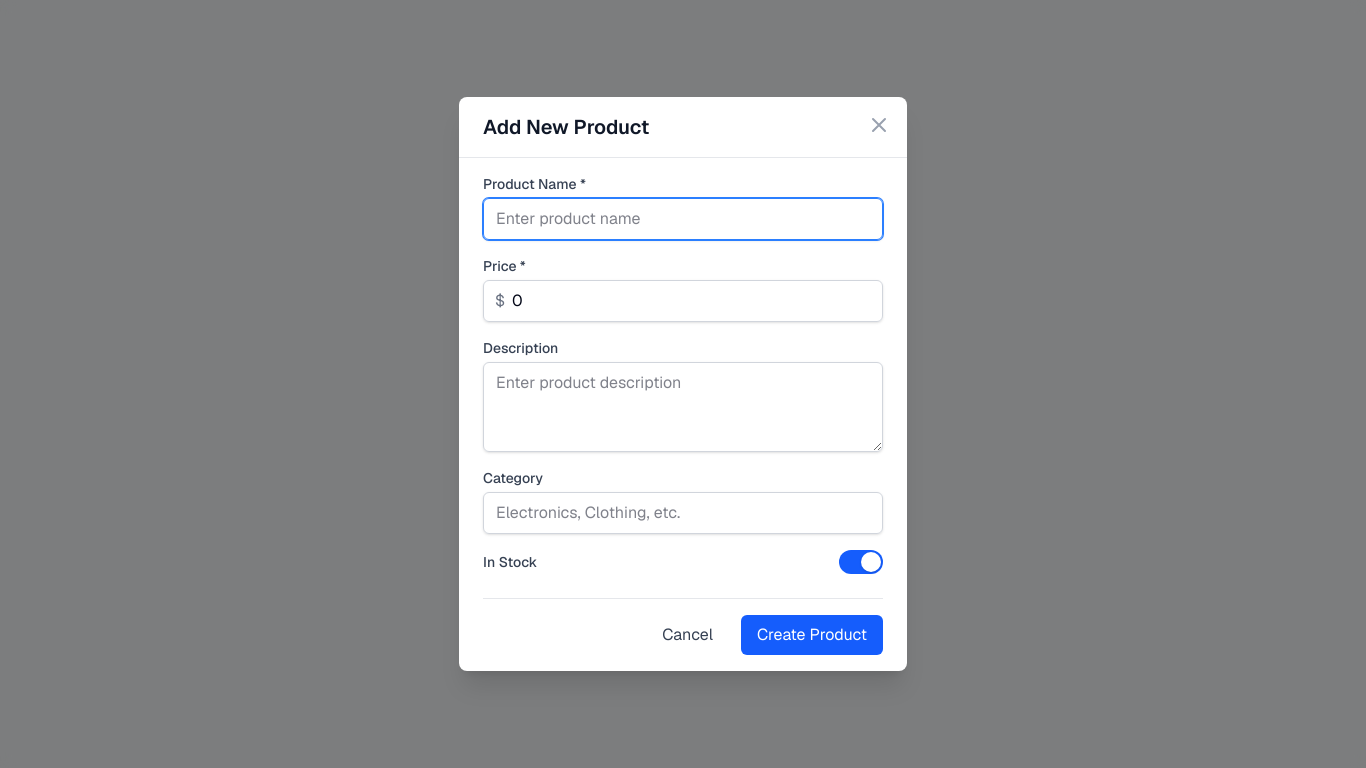
Test case: ProductFormModal › Validation › should show error when price exceeds maximum
Type "Test Product" into the field labelled "Product Name *". click: (683, 219)
box: x1=483 y1=198 x2=883 y2=240
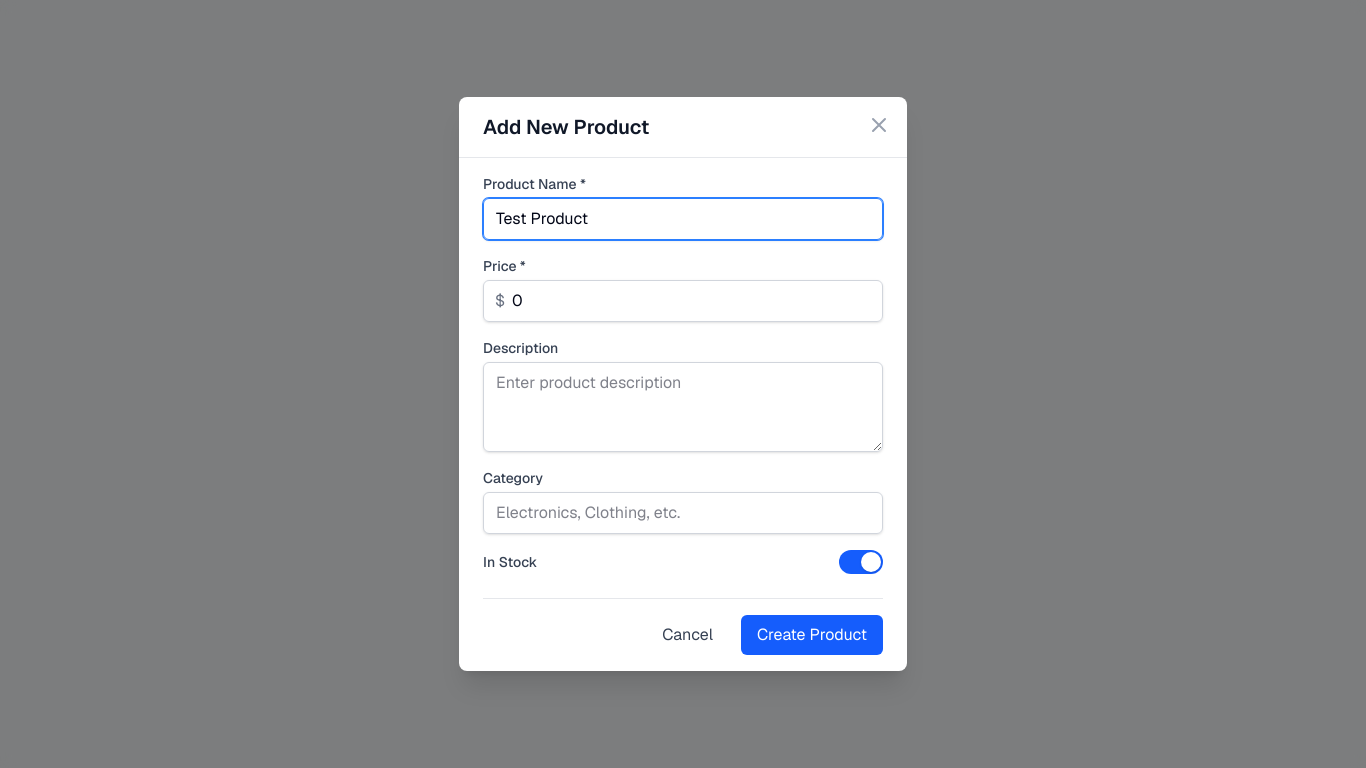
Replace the text in the number field labelled "Price *" with "9999999". click: (683, 301)
box: x1=483 y1=280 x2=883 y2=322
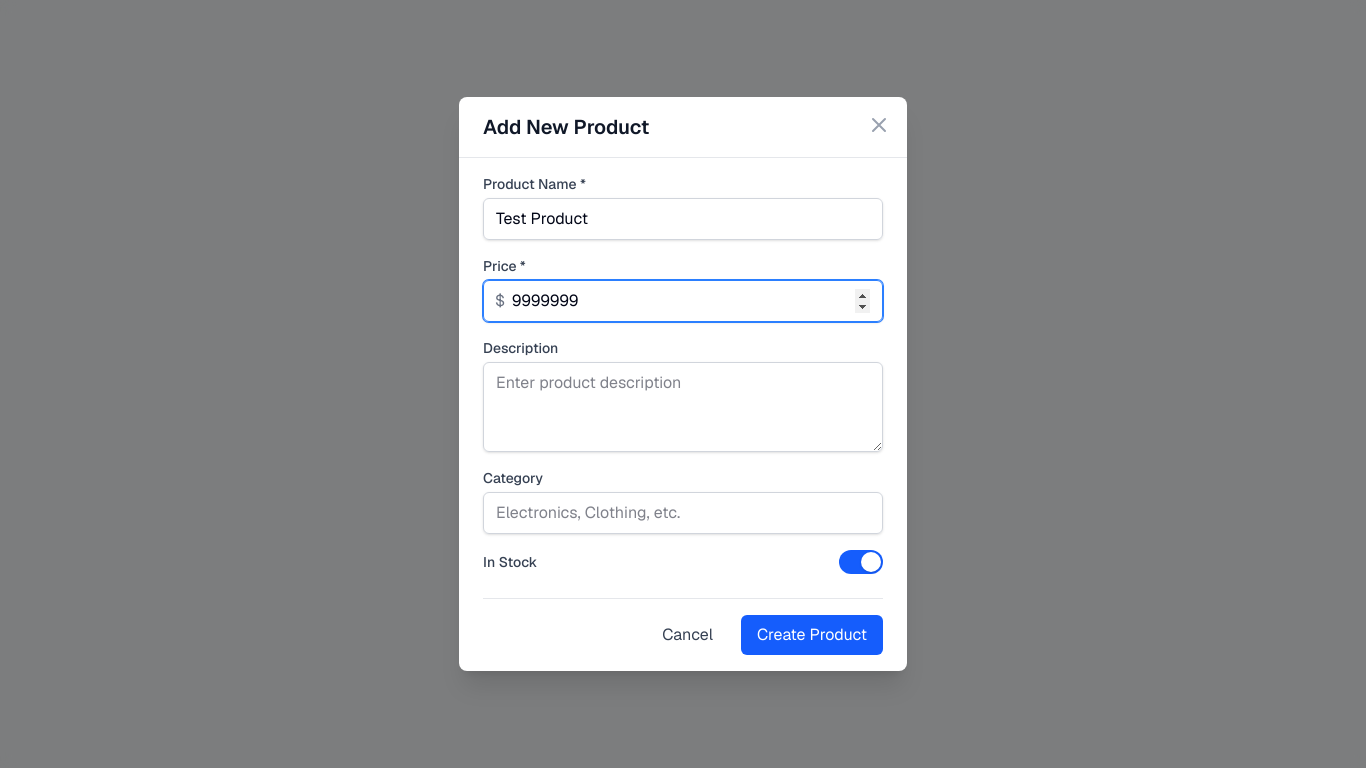
Click the button "Create Product". click: (812, 635)
box: x1=741 y1=615 x2=883 y2=655
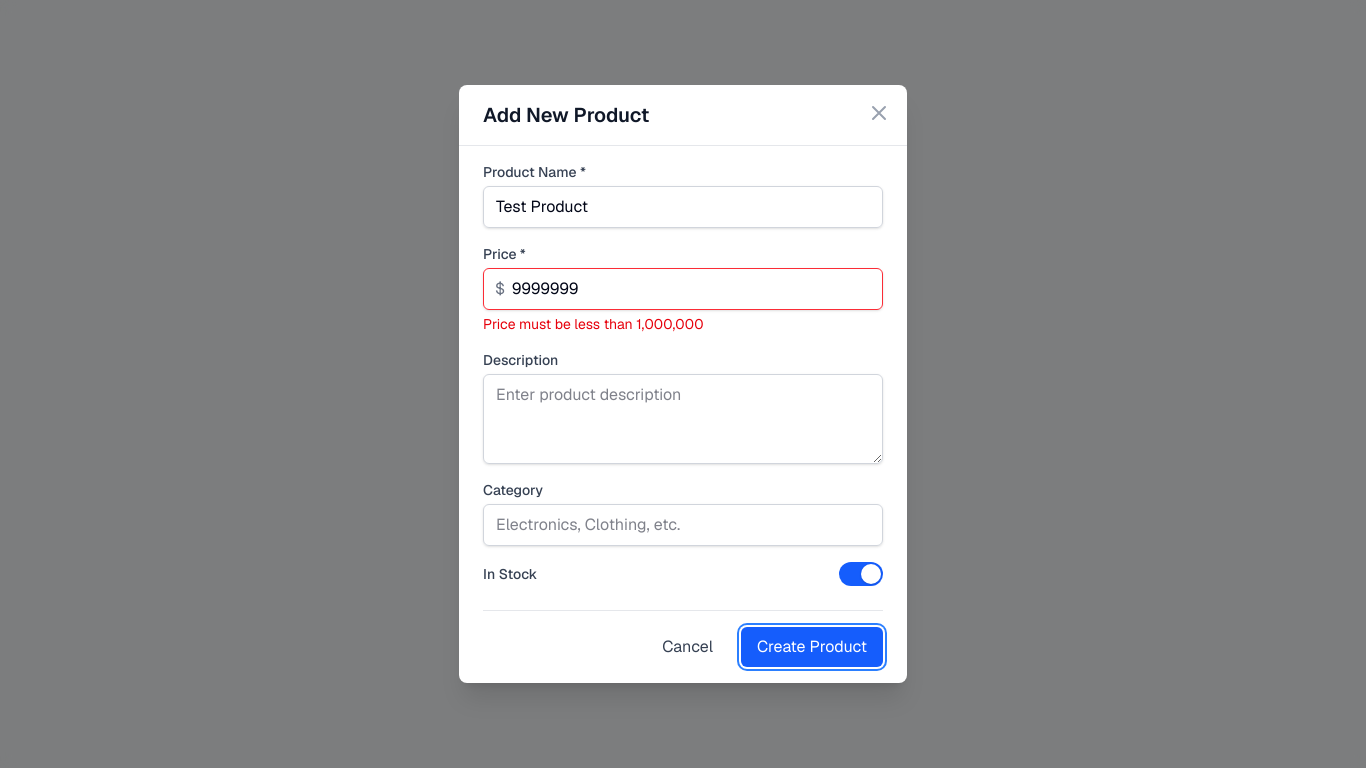
Now the text "Price must be less than 1,000,000" is shown, box x1=483 y1=315 x2=704 y2=333
